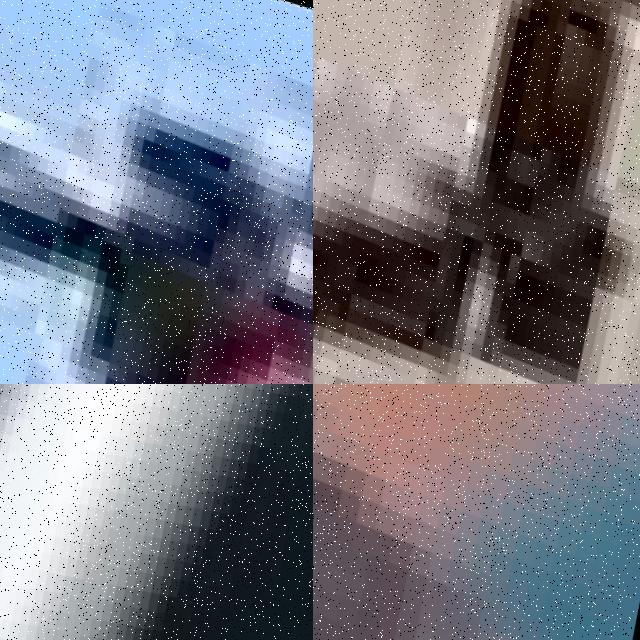0: (313, 0, 640, 384), (0, 0, 313, 384)
drone: (313, 384, 640, 640)
